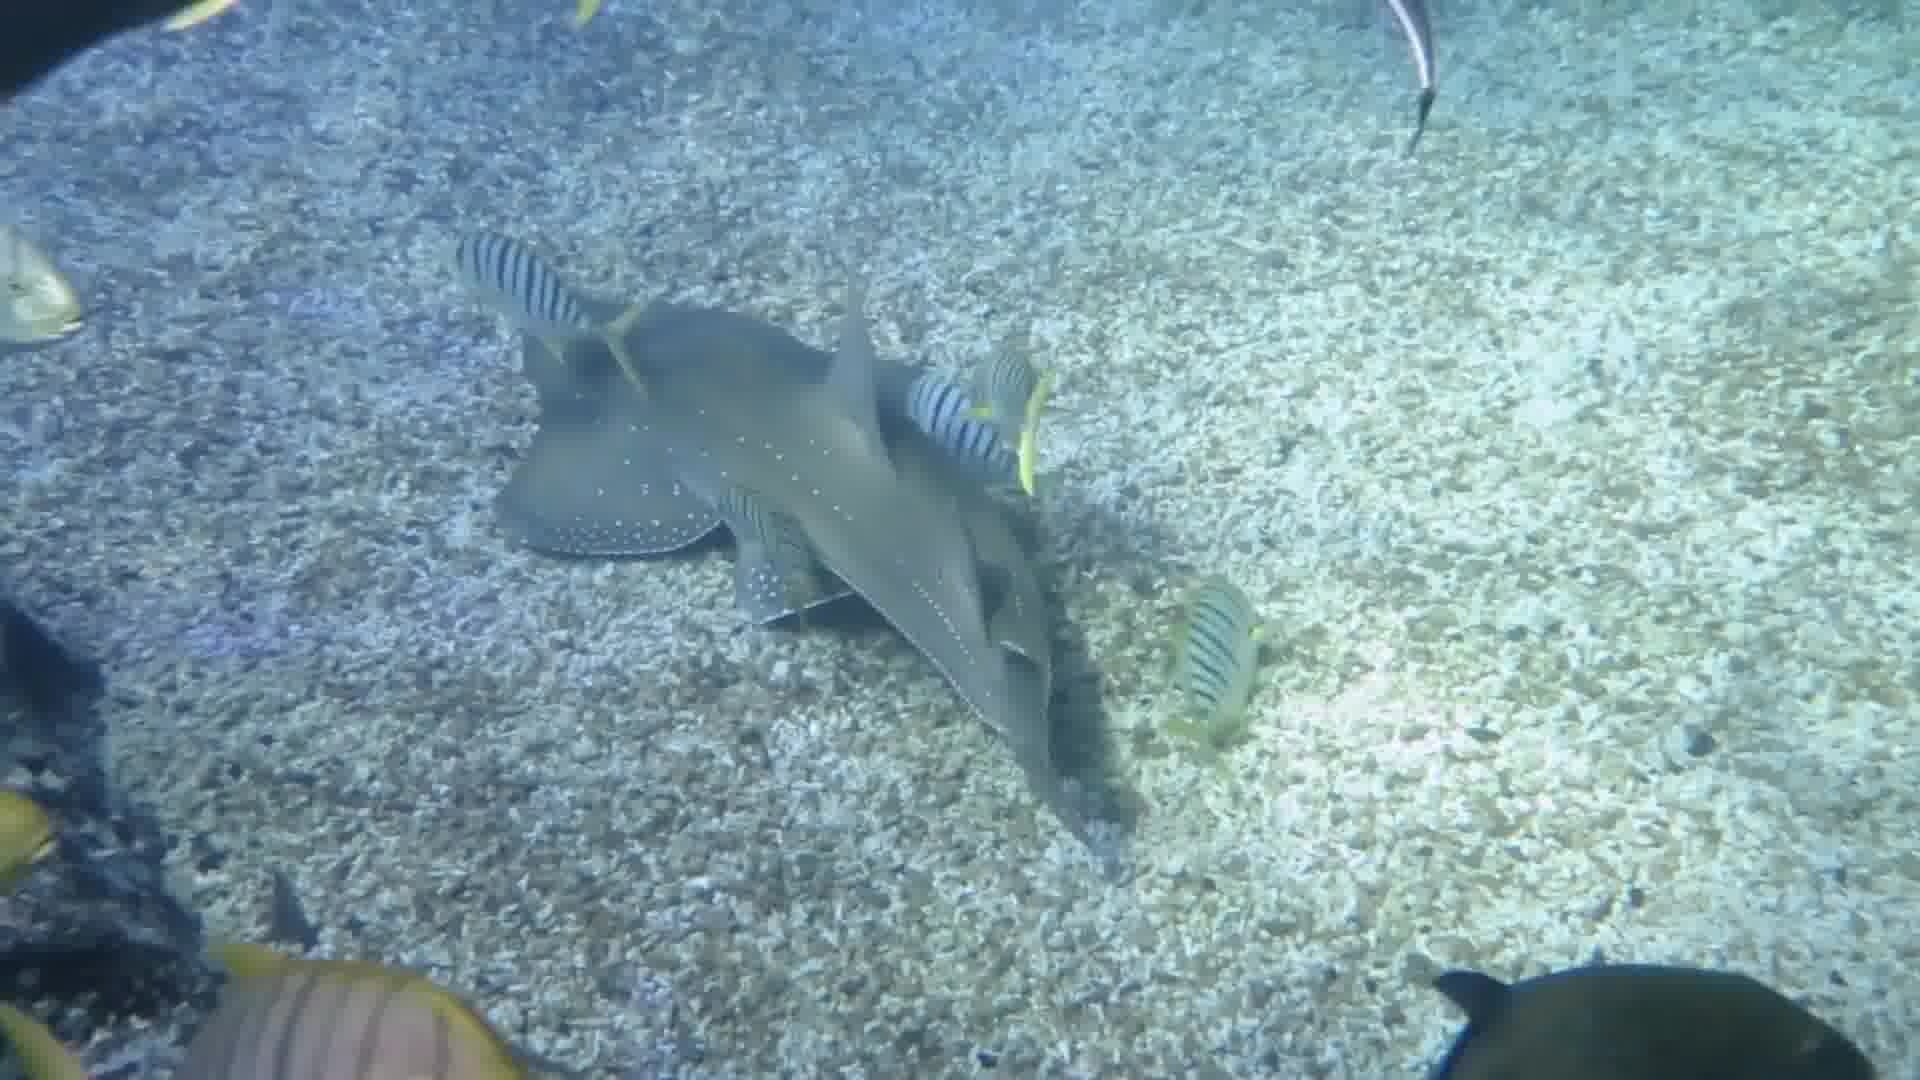Rhychobatus djiddensis: (290, 222, 1323, 785)
